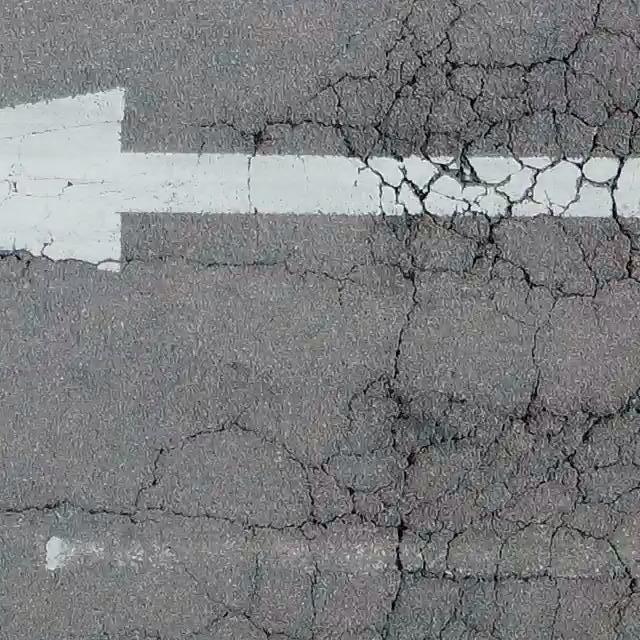GRIETA: (0, 248, 255, 275), (0, 500, 132, 518)
PIEL DE COCODRILO: (100, 0, 639, 639)
